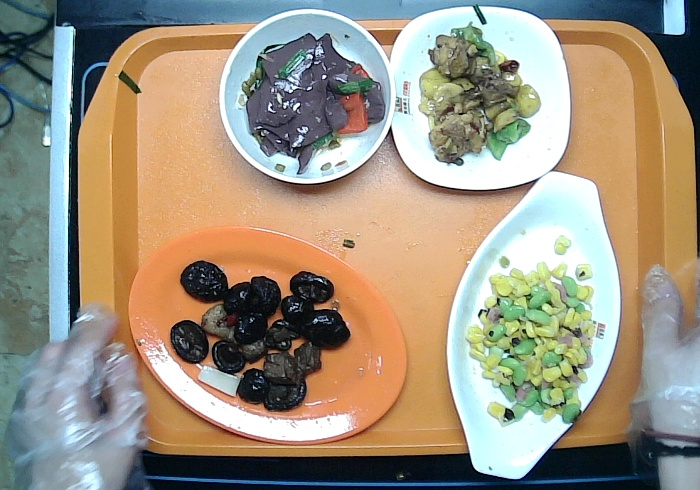NLDX-Bai_Se_Xiao_Fang_Die: (390, 5, 570, 190)
NLDX-Fan_Wan: (220, 9, 395, 184)
NLDX-Ju_Se_Pan: (126, 226, 410, 445)
NLDX-Yu_Pan: (445, 172, 621, 479)
